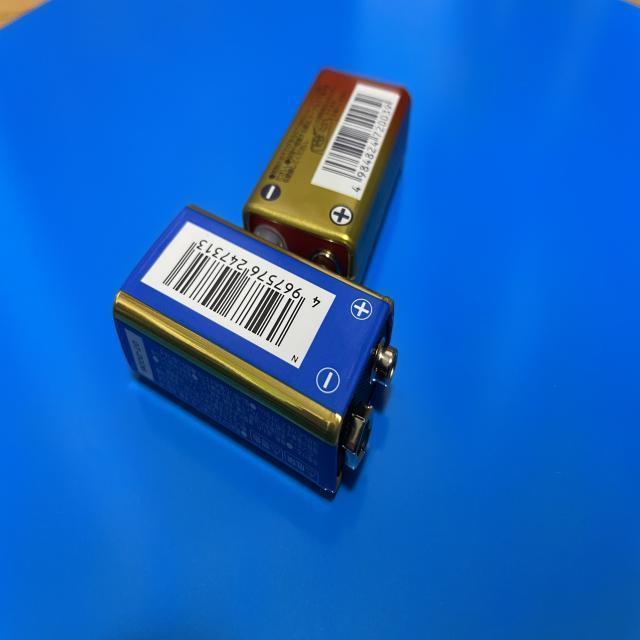9V: (112, 202, 398, 497), (243, 68, 413, 289)
